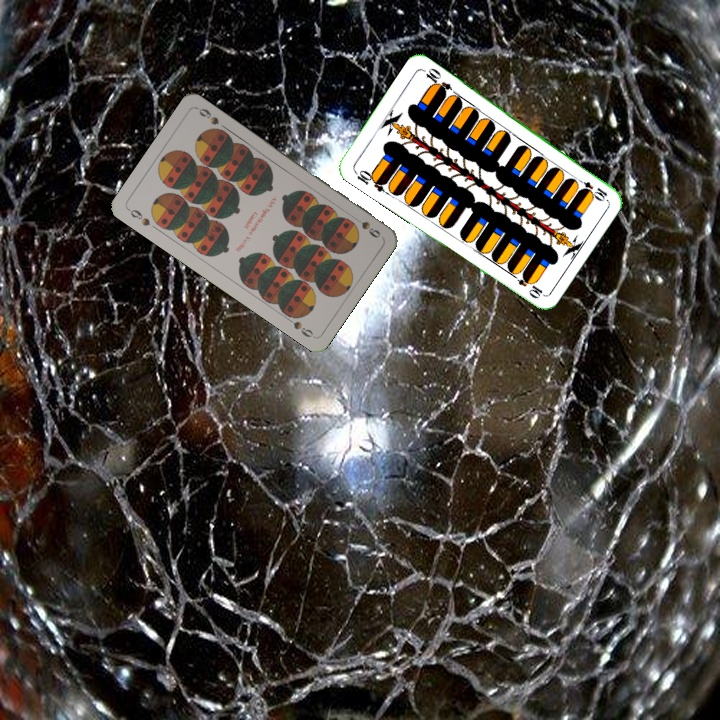E10: (350, 166, 389, 195), (572, 174, 610, 203)
S9: (349, 212, 383, 241), (124, 205, 153, 229)
